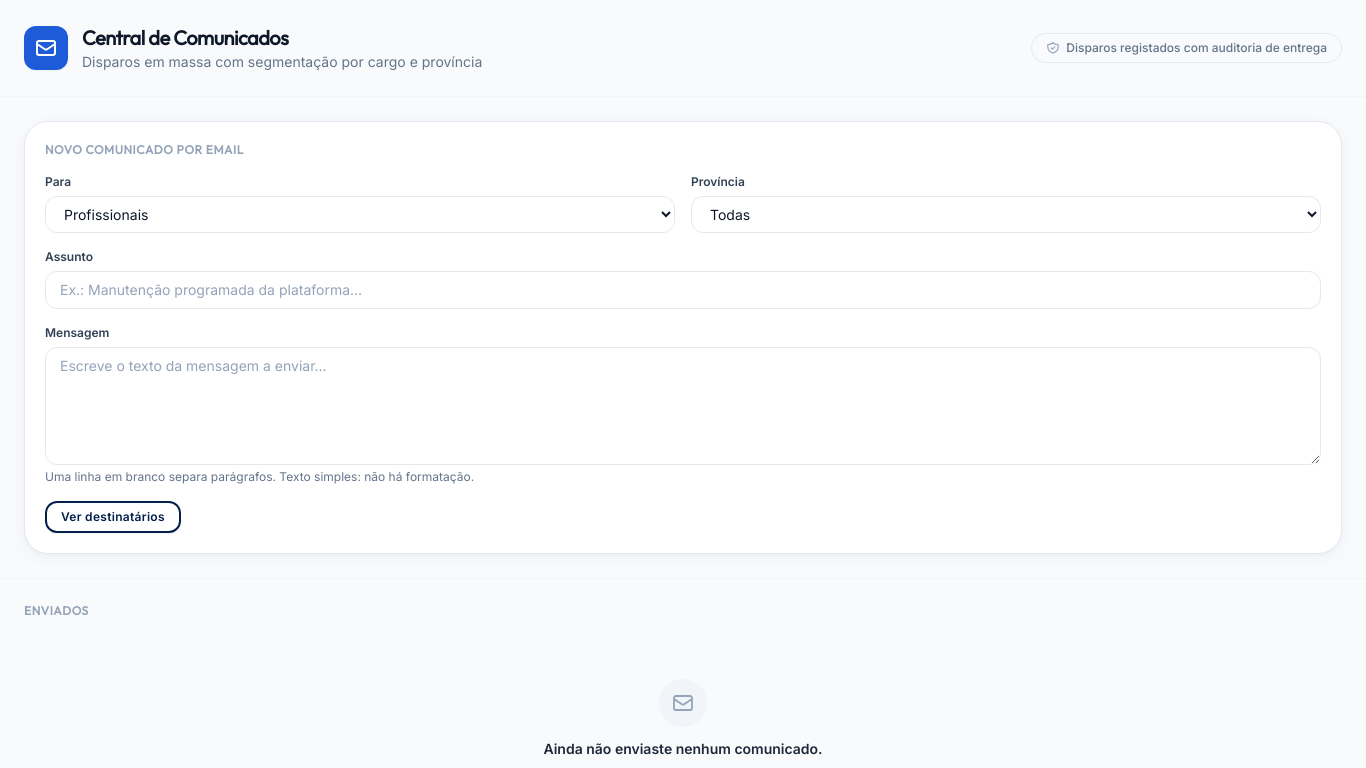
it: AdminBroadcasts — envio › texto curto demais não deixa enviar
This screenshot has width=1366, height=768.
Type "Oi" into the field labelled "Assunto" at (683, 290), box [45,271,1321,309]
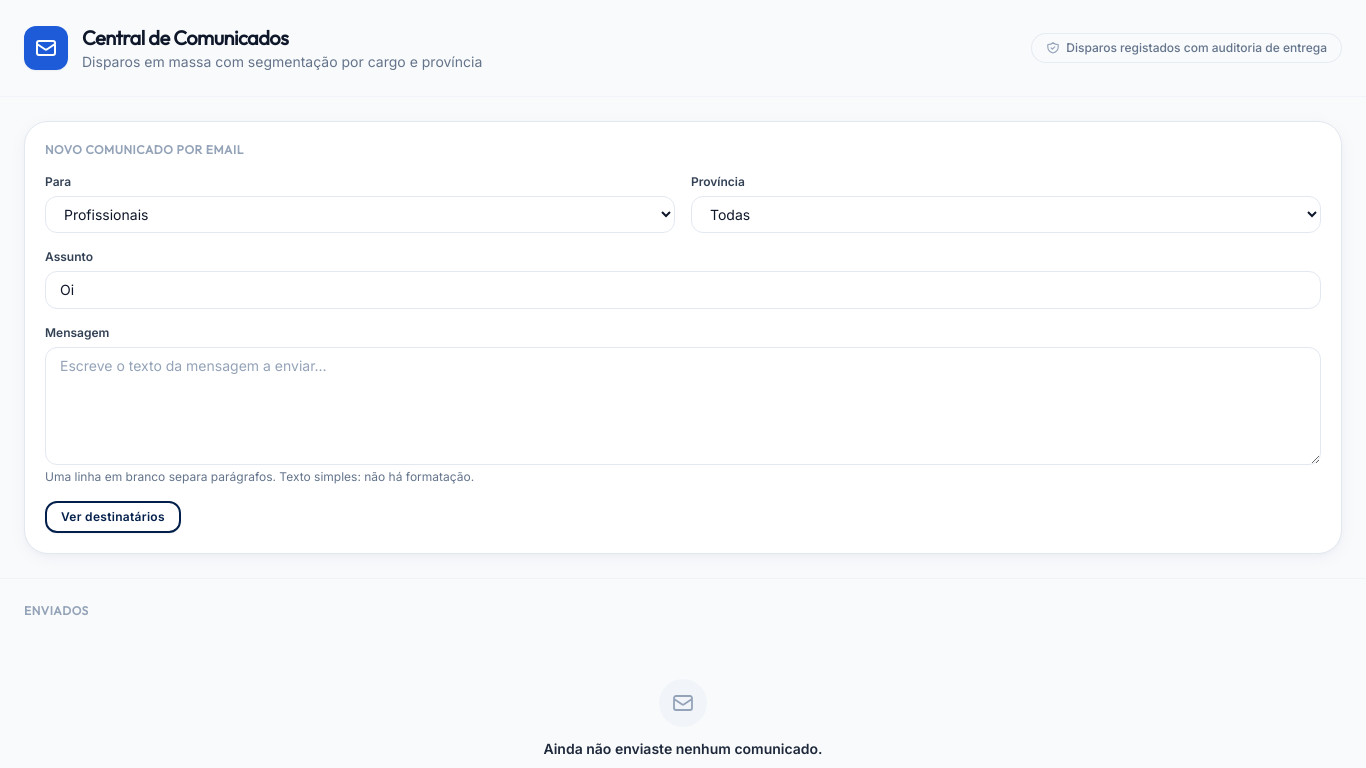
Click the button "Ver destinatários" at (113, 517), box [45,501,181,533]
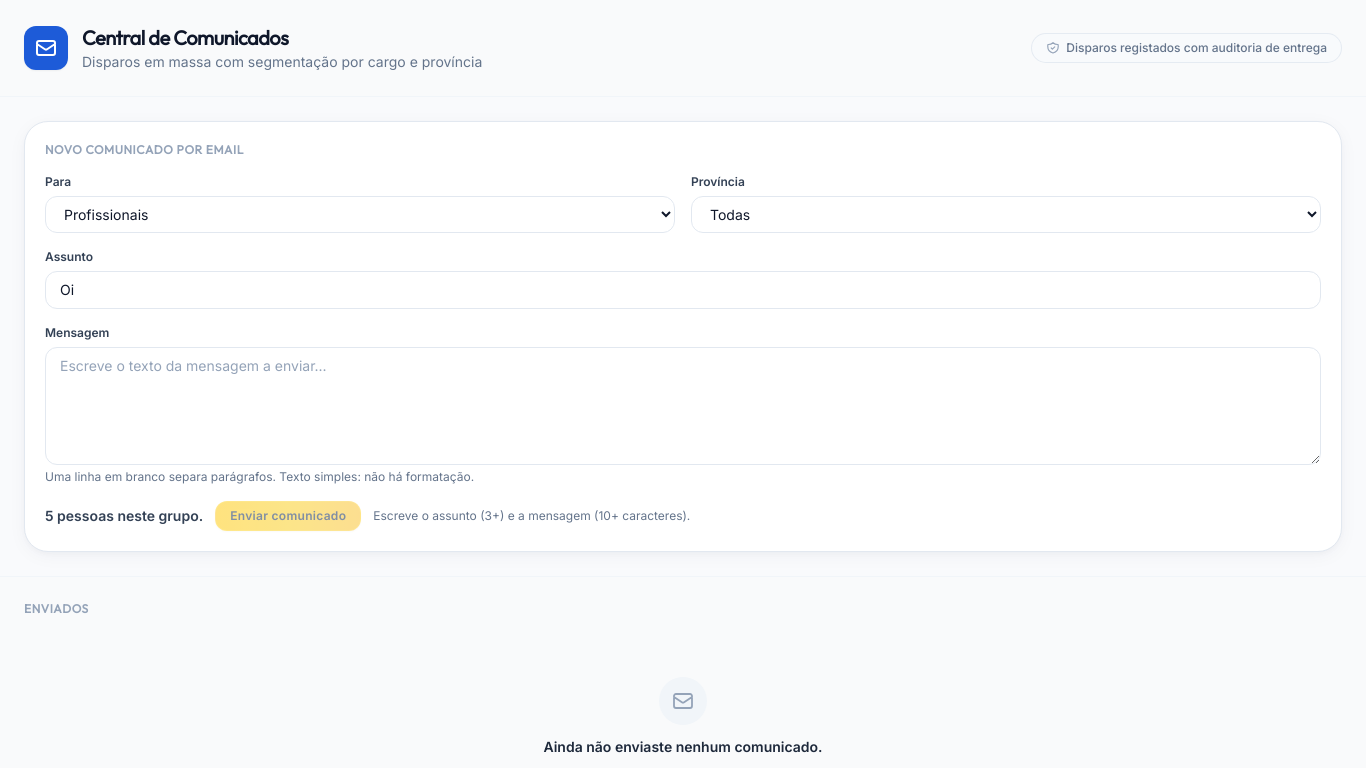
Now the button "Enviar comunicado" is disabled, box [215,501,361,531]
